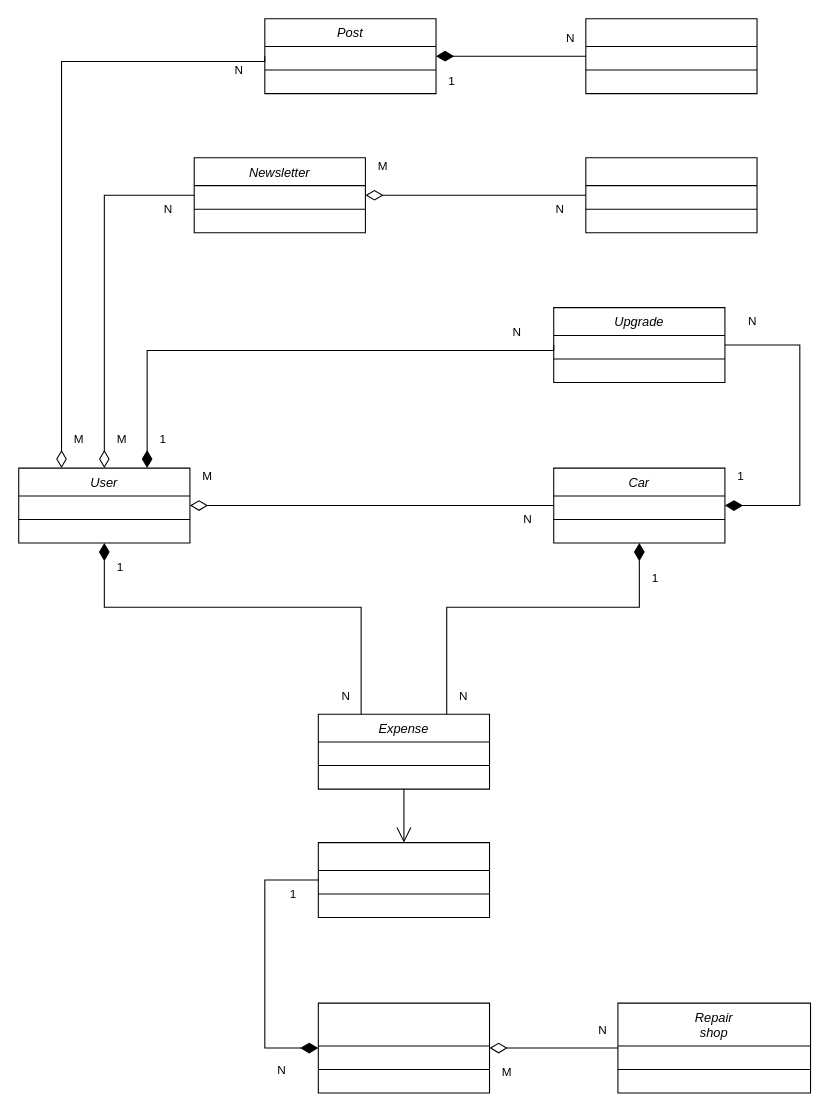
Some shapes in this 836 by 1112 pixel diagram are drawn without their labels. The centre of each missing label's shape, as x and y in pixels:
"Comment" belongs at pixel 671 56.
"Maintenance" belongs at pixel 403 880.
"Maintenance Tyoe" belongs at pixel 403 1047.
"News" belongs at pixel 671 195.
